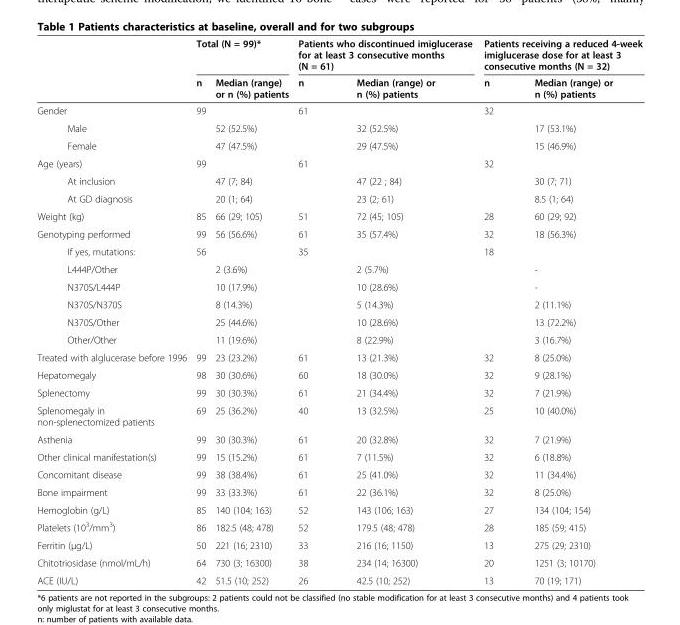table: (36, 37, 641, 585)
table column: (36, 37, 190, 585), (331, 37, 477, 585), (513, 37, 641, 585), (209, 37, 292, 585), (292, 37, 331, 585), (477, 37, 513, 585), (190, 37, 209, 585)
table column header: (36, 37, 641, 101)
table row: (36, 37, 641, 73), (36, 401, 641, 430), (36, 73, 641, 101), (36, 101, 641, 119), (36, 136, 641, 154), (36, 171, 641, 189), (36, 189, 641, 207), (36, 224, 641, 242), (36, 242, 641, 260), (36, 277, 641, 295), (36, 295, 641, 313), (36, 330, 641, 348), (36, 365, 641, 383), (36, 383, 641, 401), (36, 447, 641, 465), (36, 465, 641, 483), (36, 517, 641, 535), (36, 535, 641, 553), (36, 553, 641, 571), (36, 119, 641, 136), (36, 154, 641, 171), (36, 207, 641, 224), (36, 260, 641, 277), (36, 313, 641, 330), (36, 348, 641, 365), (36, 430, 641, 447), (36, 483, 641, 500), (36, 500, 641, 517), (36, 571, 641, 585)
table spanning cell: (292, 37, 477, 73), (477, 37, 641, 73), (190, 37, 292, 73)
